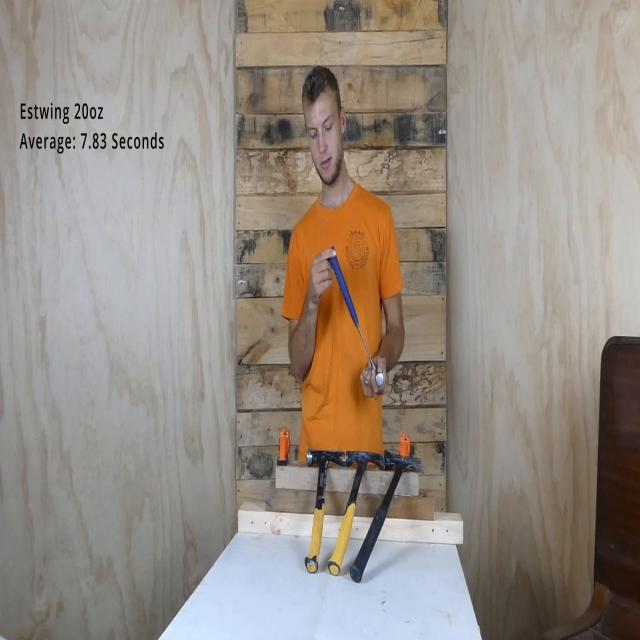hammer: (350, 453, 422, 583), (327, 248, 383, 386), (328, 449, 386, 579), (303, 448, 349, 576)
